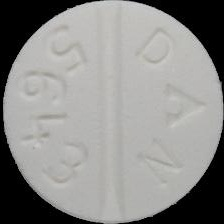68151-2032: (0, 0, 224, 224)
